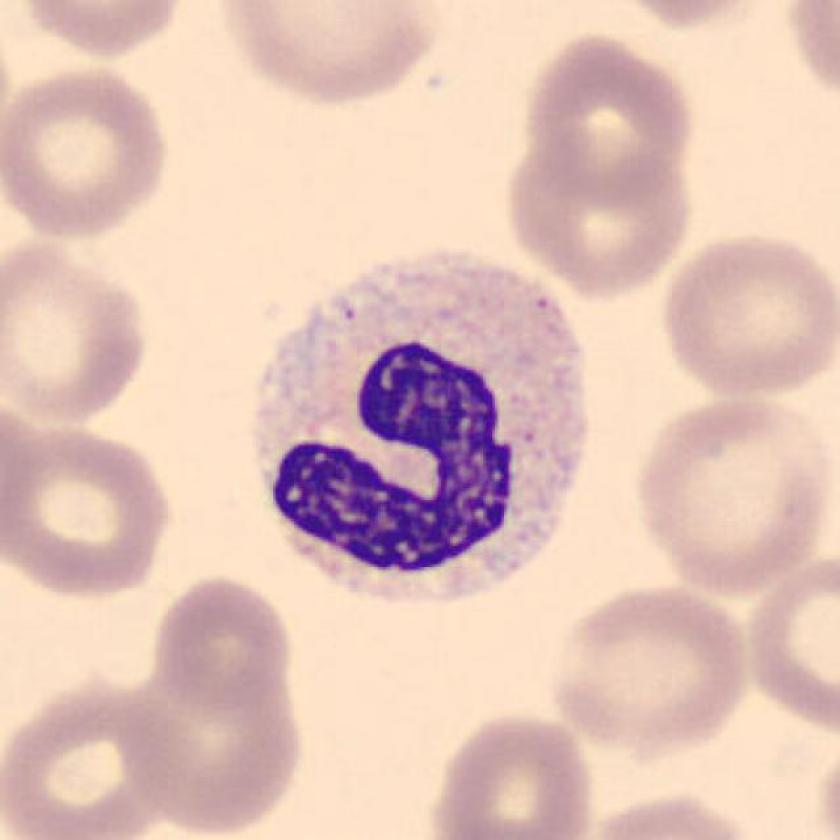neutrophil: (253, 249, 586, 597)
